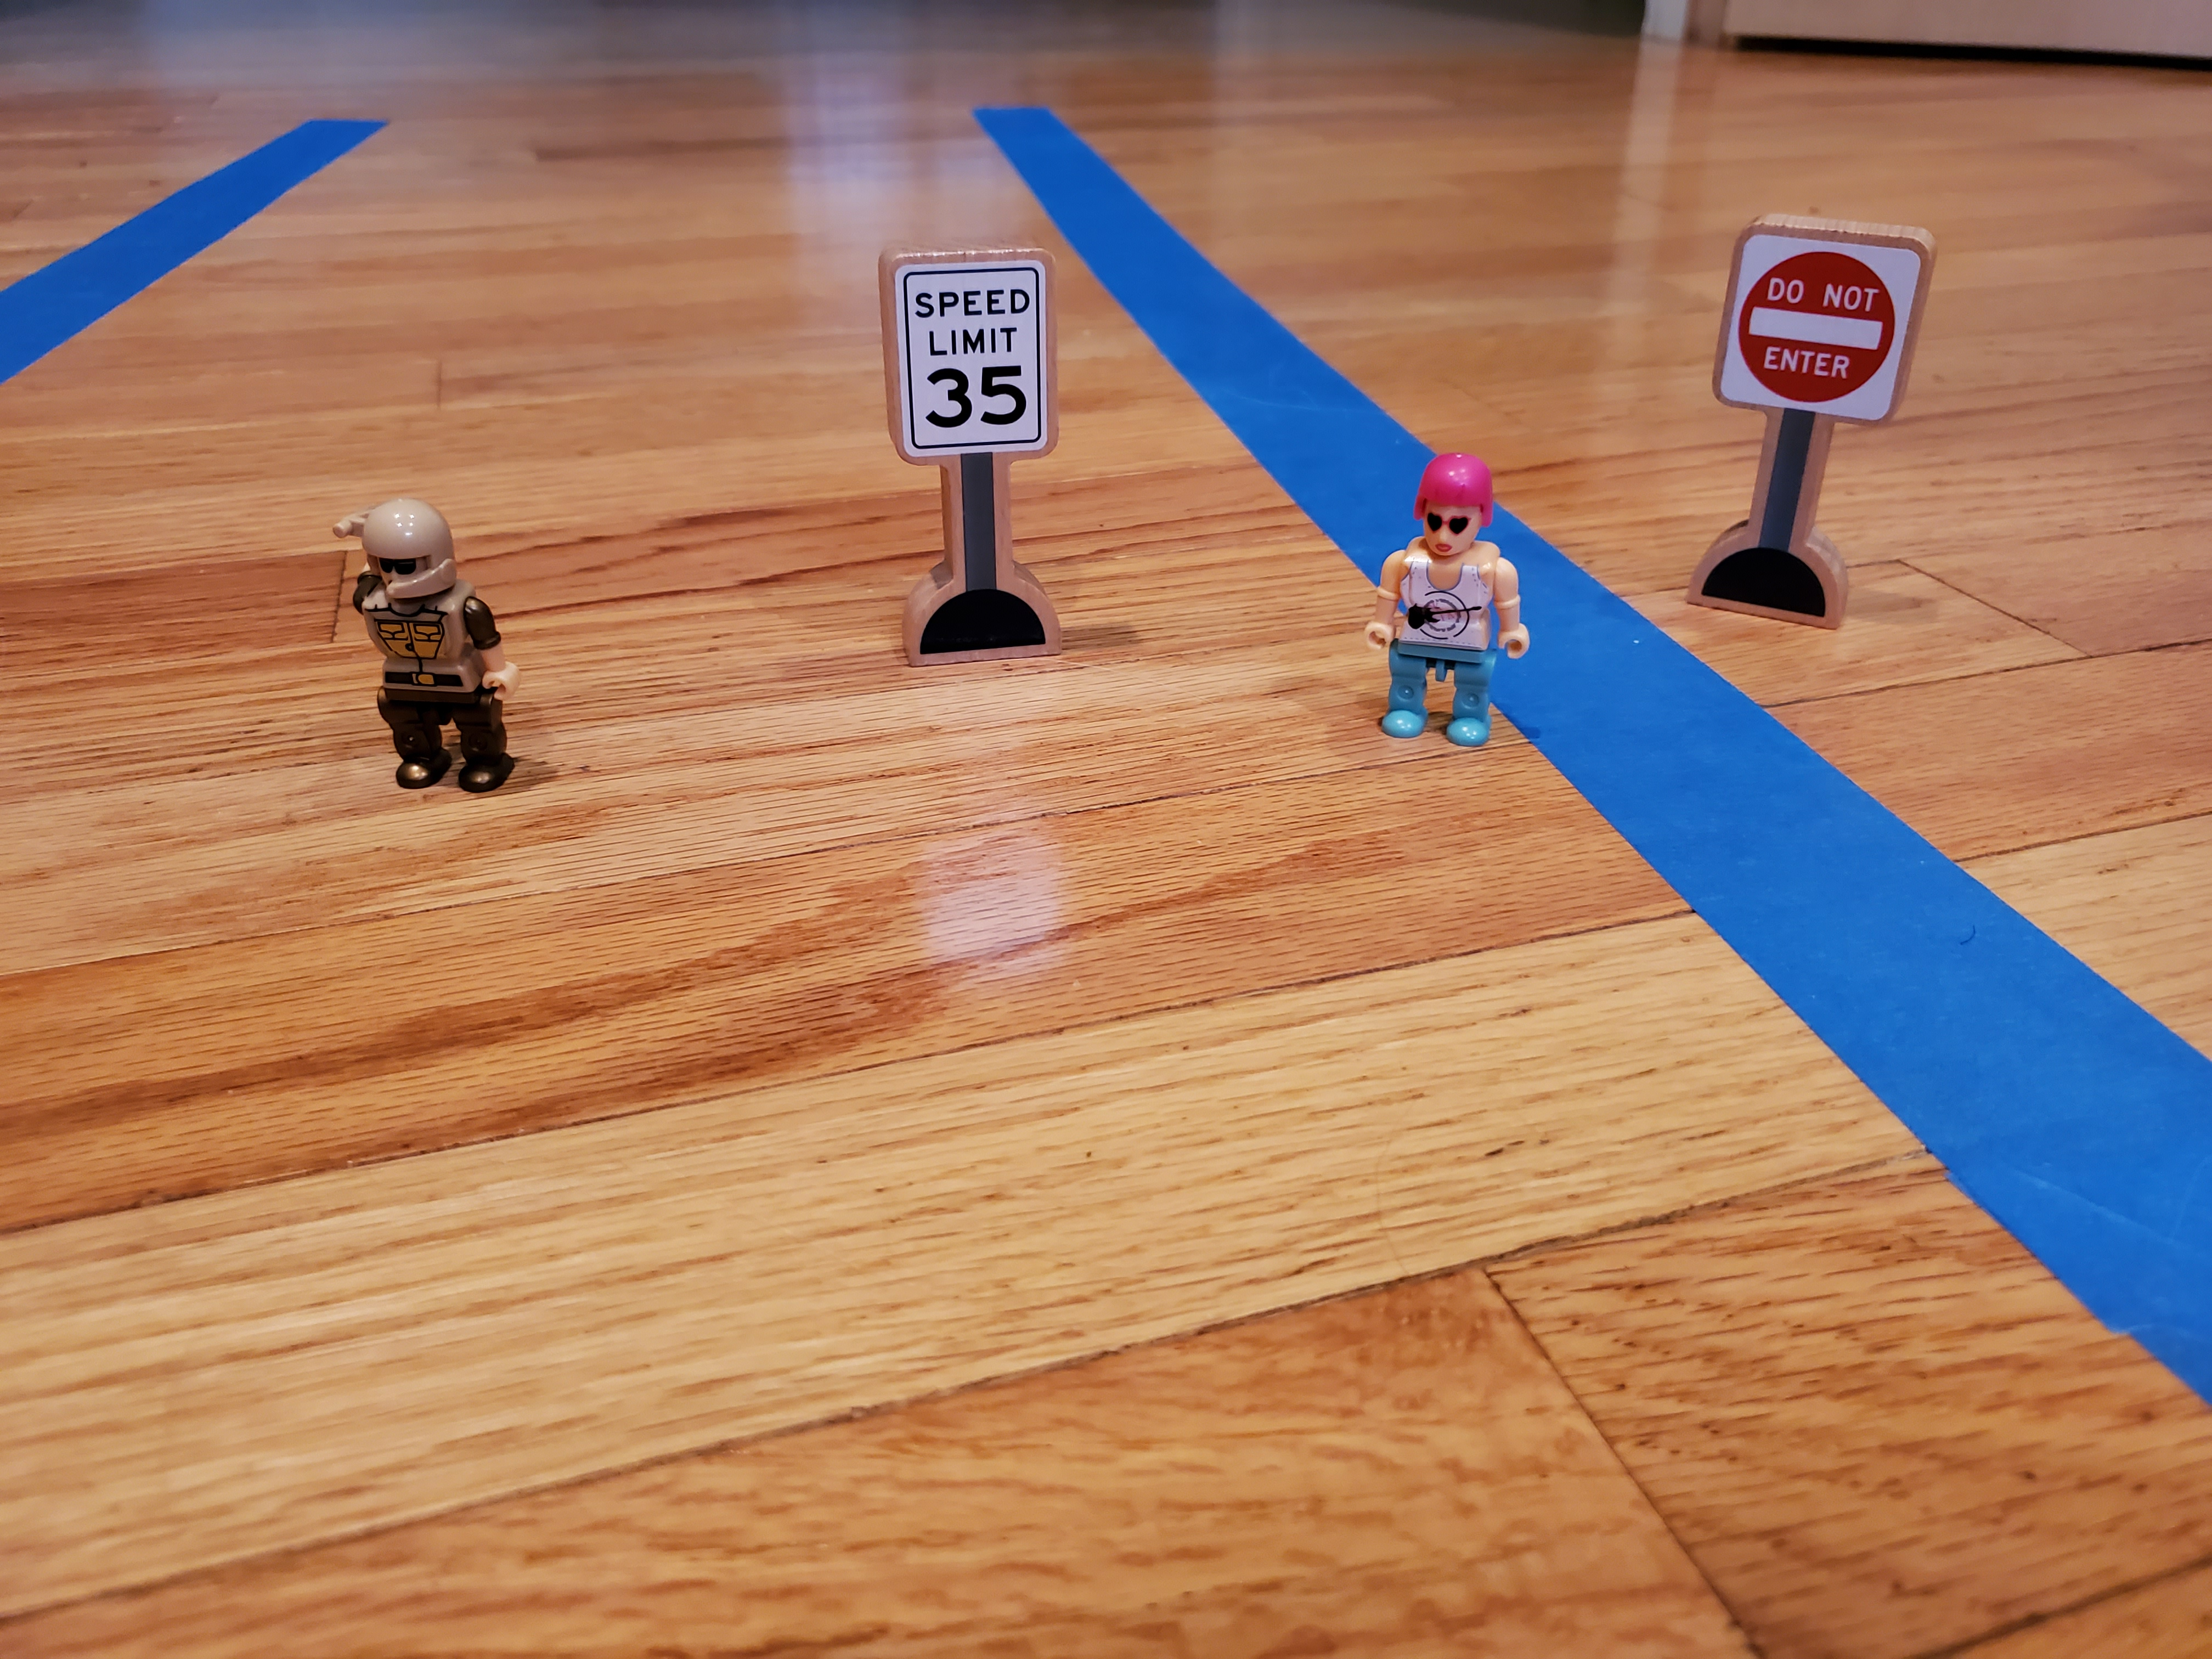Do Not Enter: (1711, 205, 1937, 456)
Speed Limit 35: (874, 239, 1060, 470)
person: (332, 500, 529, 802), (1372, 439, 1527, 750)
